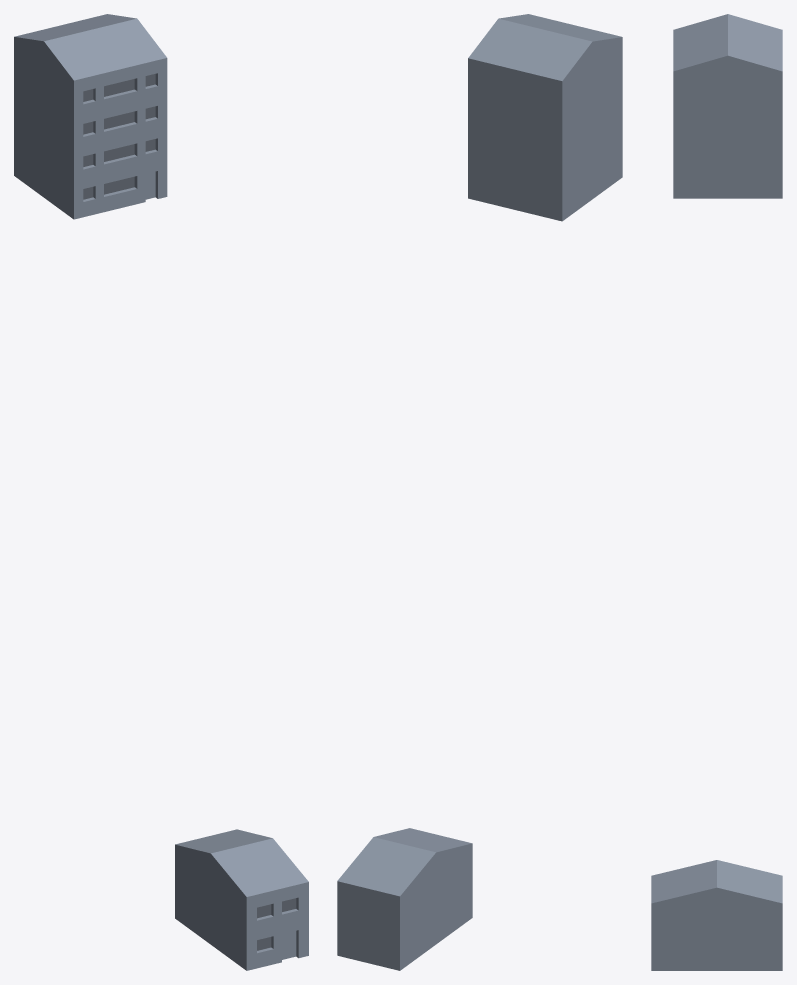
File: BinaGrup1.gltf
The picture shows the model from 3 angles, left to right: view 1: azimuth 30°, elevation 25°; view 2: azimuth 150°, elevation 25°; view 3: azimuth 270°, elevation 25°; orthographic projection. The views are drawn at different scales.
Parts seen in each view (by area): view 1: Building_071.014, Building_082.014, Building_071.015; view 2: Building_071.014, Building_082.014; view 3: Building_071.014, Building_082.014.
Boxes of the visible parts, x1=… form: Building_071.014: x1=14, y1=14, x2=167, y2=219; Building_082.014: x1=175, y1=829, x2=308, y2=970; Building_071.015: x1=83, y1=74, x2=155, y2=199; Building_071.014: x1=468, y1=14, x2=622, y2=221; Building_082.014: x1=337, y1=828, x2=472, y2=970; Building_071.014: x1=673, y1=14, x2=782, y2=198; Building_082.014: x1=651, y1=860, x2=782, y2=970.
Bounding box in the file's own units: 0.1168 × 0.4696 × 0.0652.
